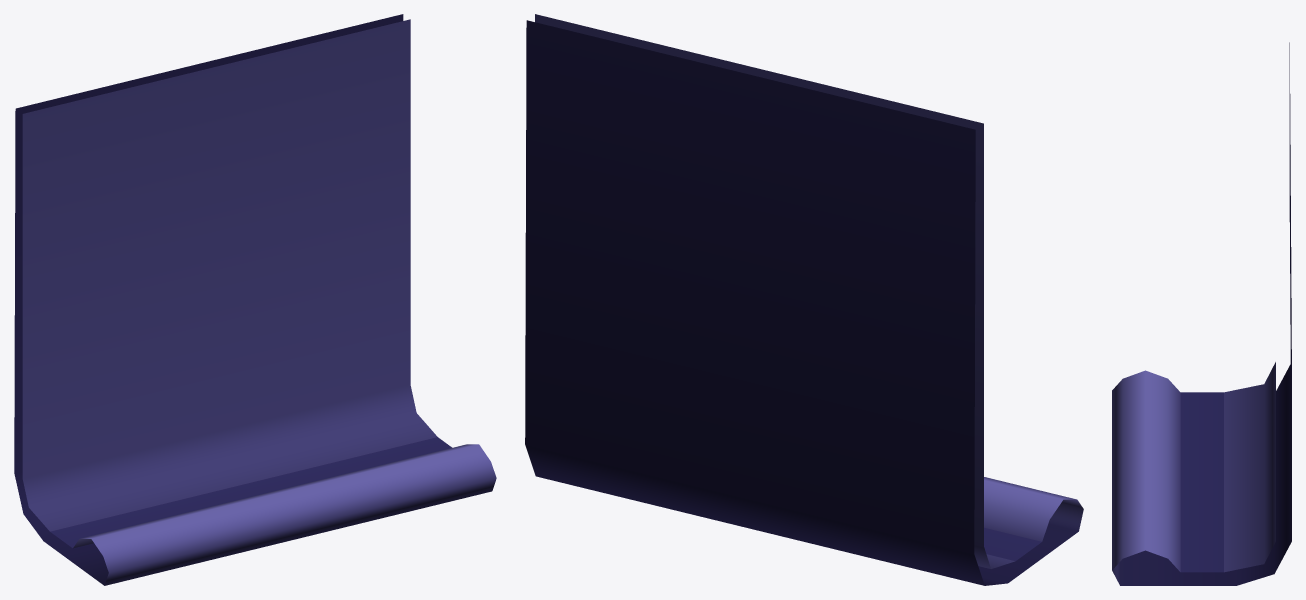
File: carpet_start_middle.fbx
The picture shows the model from 3 angles, left to right: view 1: azimuth 30°, elevation 25°; view 2: azimuth 150°, elevation 25°; view 3: azimuth 270°, elevation 25°; orthographic projection. The views are drawn at different scales.
Visible parts, largest first — view 1: carpet_start_middle; view 2: carpet_start_middle; view 3: carpet_start_middle.
Boxes of the visible parts, left/top/right/bottom form: carpet_start_middle: left=14, top=14, right=496, bottom=585; carpet_start_middle: left=525, top=14, right=1083, bottom=585; carpet_start_middle: left=1112, top=42, right=1291, bottom=585.
Bounding box in the file's own units: 2 × 2.03 × 0.8444.
